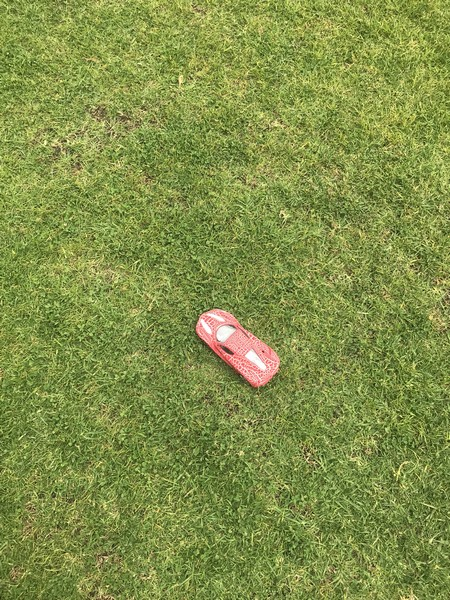RC: (192, 306, 282, 393)
